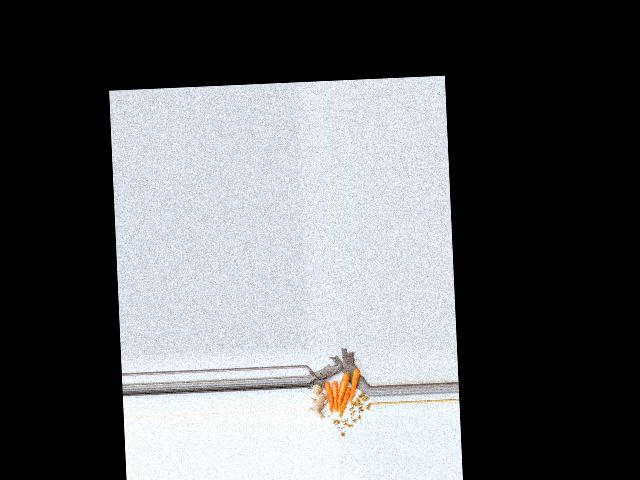carrot: (320, 379, 335, 413)
